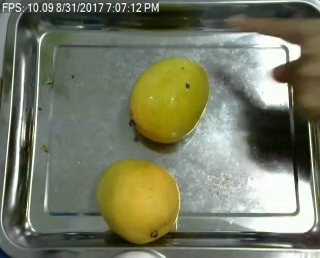Mango: (97, 162, 180, 244), (130, 57, 211, 139)
